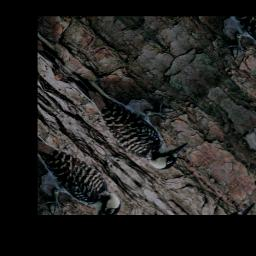Woodpecker: (52, 44, 208, 181)
